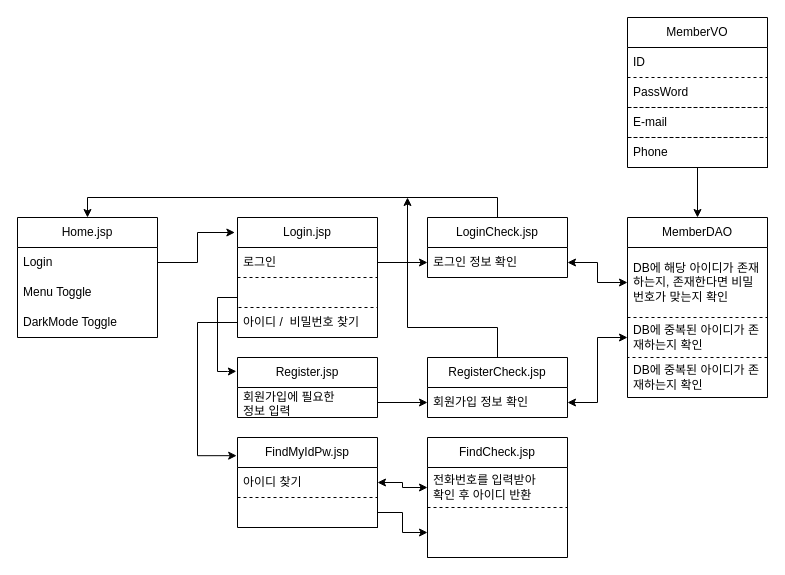
Image size: 785x575. Some labels were removed from this diagram. The shapes that lost their labels are listed below. From the top down, each one's centre as x and y in pixels, then its label:
(307,292): 회원가입
(307,512): 비밀번호 찾기
(497,532): 아이디를 입력받았을 때, 해당 아이디에 맞는 이메일로 확인 메일을 보냄
